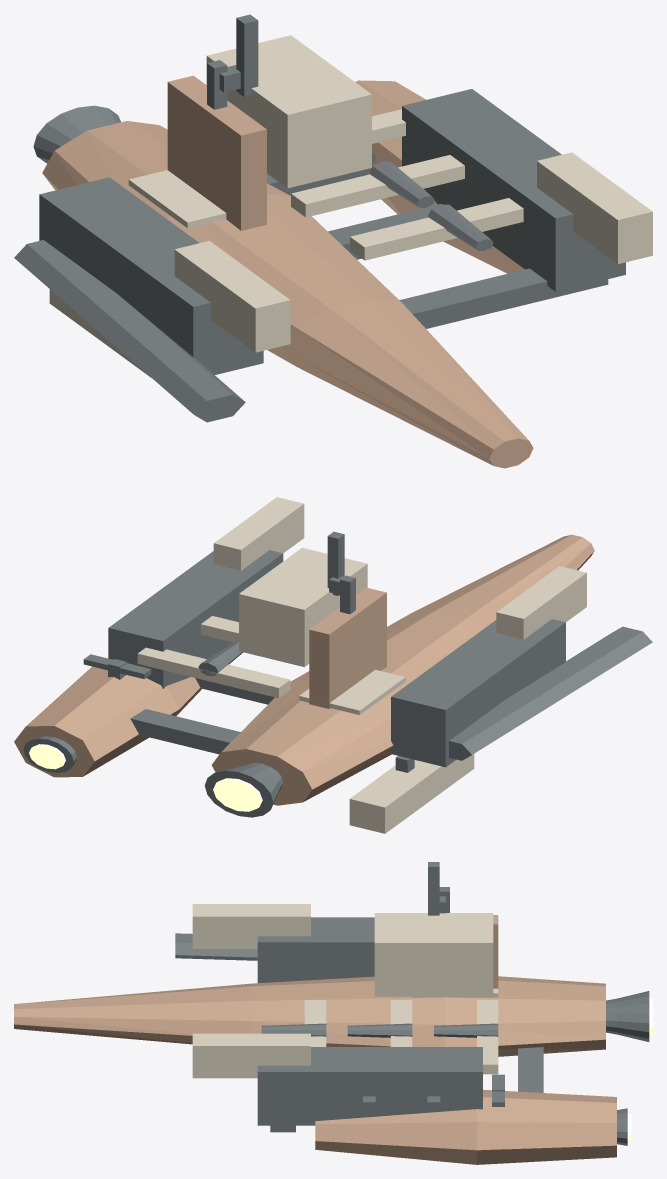
3 renders of one model, top to bottom at view 1: azimuth 30°, elevation 25°; view 2: azimuth 150°, elevation 25°; view 3: azimuth 270°, elevation 25°, orthographic. The views are drawn at different scales.
Bounding box in the file's own units: 15.13 × 8.22 × 21.56.
